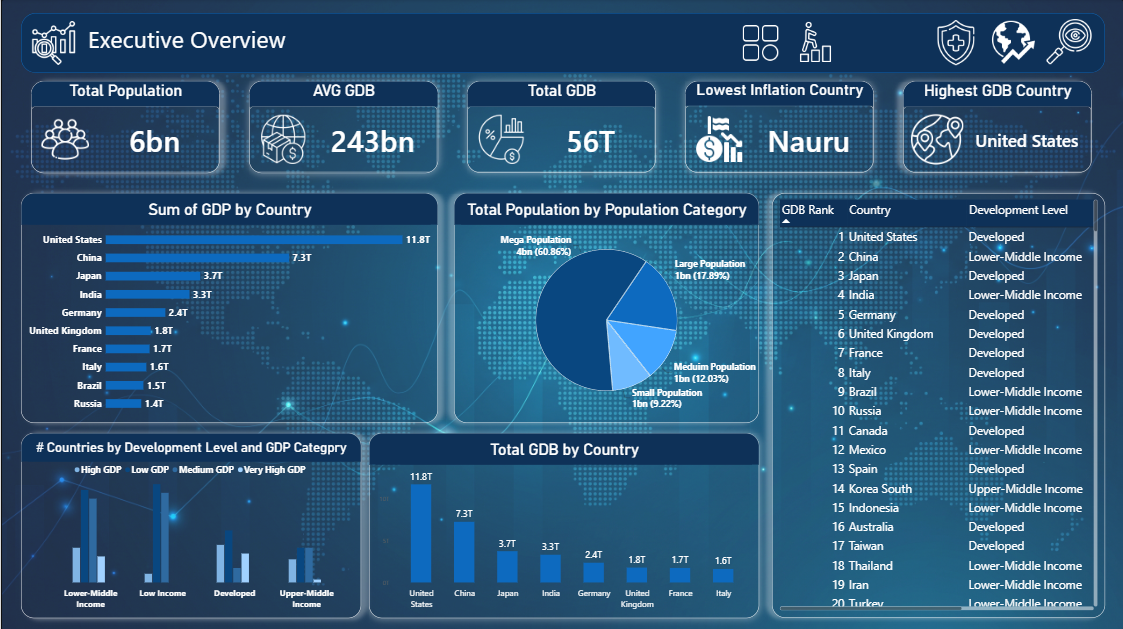

The page's visual inventory and layout, read from the dashboard file:
{"tool":"powerbi","page":{"name":"Executive Overview","canvas":[2560,1440],"ordinal":0},"visuals":[{"type":"cardVisual","title":"Total Population ","fields":{"Data":["Dax Measures.Total Population"]},"box":[68.4,186.8,430,209.6],"z":0},{"type":"cardVisual","title":"Total GDB","fields":{"Data":["Dax Measures.Total GDB"]},"box":[1062.1,186.8,430,209],"z":1000},{"type":"cardVisual","title":"AVG GDB","fields":{"Data":["Dax Measures.AVG GDB"]},"box":[564.9,186.8,430.6,209.6],"z":2000},{"type":"cardVisual","title":"Highest GDB Country","fields":{"Data":["Dax Measures.Highest GDB Country"]},"box":[2055.2,186.8,430,209],"z":3000},{"type":"cardVisual","title":"Lowest Inflation Country","fields":{"Data":["Dax Measures.Lowest Inflation Country"]},"box":[1558.6,186.8,430,209],"z":4000},{"type":"clusteredBarChart","fields":{"Category":["Country Data Comparison.Country"],"Y":["Sum(Country Data Comparison.GDP)"]},"box":[45.6,442,950.1,524.1],"z":5000},{"type":"pieChart","fields":{"Category":["Country Data Comparison.Population Category"],"Y":["Dax Measures.Total Population"]},"box":[1032.2,442,694.9,524.1],"z":6000},{"type":"clusteredColumnChart","fields":{"Category":["Country Data Comparison.Development Level"],"Series":["Country Data Comparison.GDP Categpry"],"Y":["Dax Measures.# Countries"]},"box":[45.6,988.9,774.7,421.5],"z":7000},{"type":"tableEx","fields":{"Values":["Dax Measures.GDB Rank","Country Data Comparison.Country","Country Data Comparison.Development Level","Dax Measures.Total GDB","Dax Measures.Total Population"]},"box":[1756.7,442,758.7,968.4],"z":8000},{"type":"columnChart","fields":{"Category":["Country Data Comparison.Country"],"Y":["Dax Measures.Total GDB"]},"box":[837.9,989.6,889.3,421.5],"z":9000},{"type":"shape","box":[45.6,31.9,2469.9,136.7],"z":10000},{"type":"textbox","box":[198.2,34.2,469.4,132.2],"z":11000},{"type":"image","box":[68.4,45.6,102.5,109.4],"z":12000},{"type":"image","box":[2121.3,47.8,109.4,102.5],"z":13000},{"type":"image","box":[2381,45.6,104.8,102.5],"z":14000},{"type":"image","box":[2253.4,47.8,109.4,102.5],"z":15000},{"type":"image","box":[1806.8,47.8,98,100.3],"z":16000},{"type":"image","box":[1674.7,50.1,111.6,100.3],"z":18000}]}

Visuals, with their boxes in screenshot pixels (x1, y1, x2, y2), scaled from the page's 2560x1440 canvas onto the 1123x629 screenshot:
"Total Population " cardVisual: [30,82,219,173]
"Total GDB" cardVisual: [466,82,655,173]
"AVG GDB" cardVisual: [248,82,437,173]
"Highest GDB Country" cardVisual: [902,82,1090,173]
"Lowest Inflation Country" cardVisual: [684,82,872,173]
clusteredBarChart - Country Data Comparison.Country x Sum(Country Data Comparison.GDP): [20,193,437,422]
pieChart - Country Data Comparison.Population Category x Dax Measures.Total Population: [453,193,758,422]
clusteredColumnChart - Country Data Comparison.Development Level x Country Data Comparison.GDP Categpry: [20,432,360,616]
tableEx - Dax Measures.GDB Rank x Country Data Comparison.Country: [771,193,1103,616]
columnChart - Country Data Comparison.Country x Dax Measures.Total GDB: [368,432,758,616]
shape: [20,14,1103,74]
textbox: [87,15,293,73]
image: [30,20,75,68]
image: [931,21,979,66]
image: [1044,20,1090,65]
image: [989,21,1036,66]
image: [793,21,836,65]
image: [735,22,784,66]
